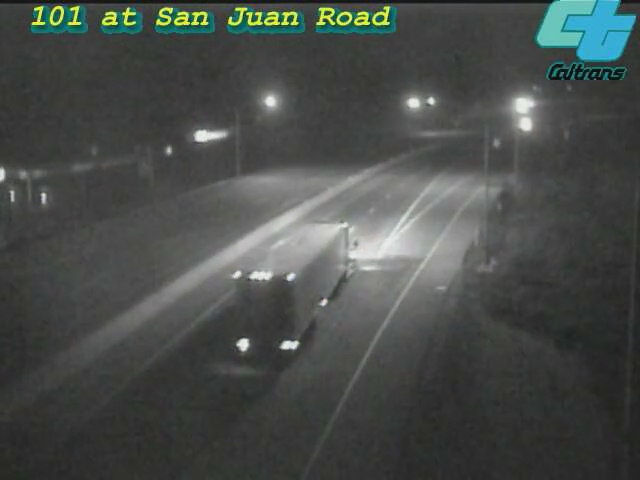vehicle: (215, 272, 325, 382), (505, 99, 555, 149), (496, 81, 546, 131)
